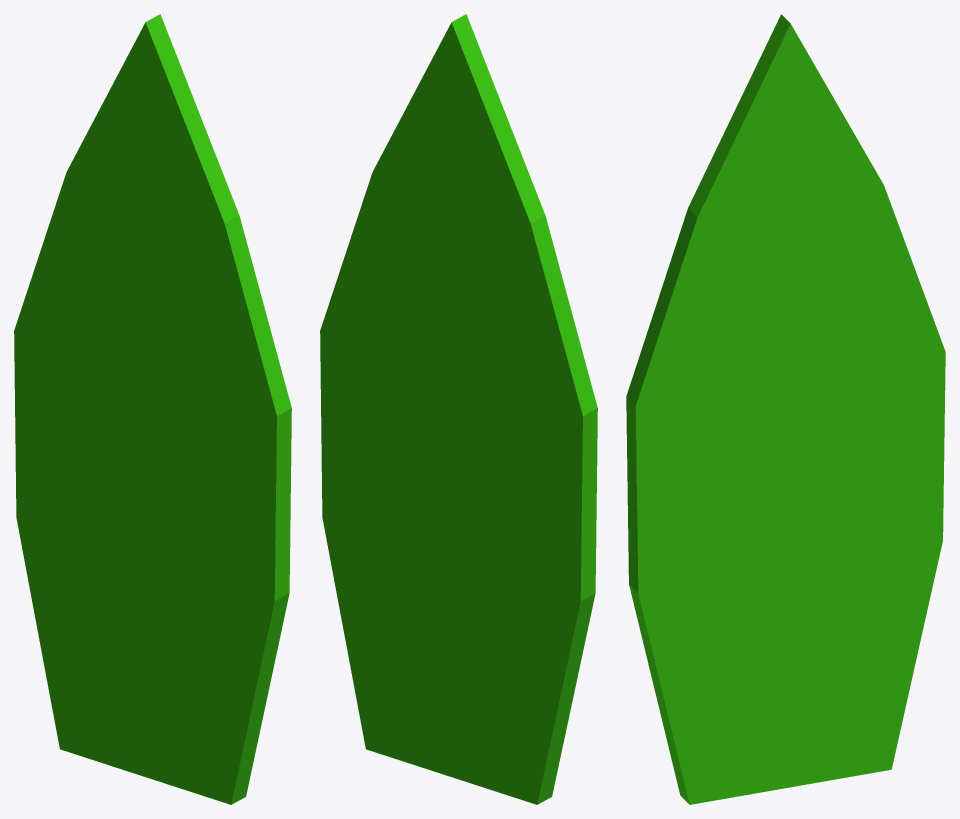
Rendered from Rigged Grass Export 93.fbx.
The picture shows the model from 3 angles, left to right: view 1: azimuth 30°, elevation 25°; view 2: azimuth 210°, elevation 25°; view 3: azimuth 270°, elevation 25°; orthographic projection.
Parts seen in each view (by area): view 1: Grass 3 Left Right 6; view 2: Grass 3 Left Right 6; view 3: Grass 3 Left Right 6.
Boxes of the visible parts, left/top/right/bottom form: Grass 3 Left Right 6: left=14, top=14, right=291, bottom=804; Grass 3 Left Right 6: left=320, top=14, right=597, bottom=804; Grass 3 Left Right 6: left=626, top=14, right=945, bottom=804.
Bounding box in the file's own units: 60.46 × 338 × 128.
